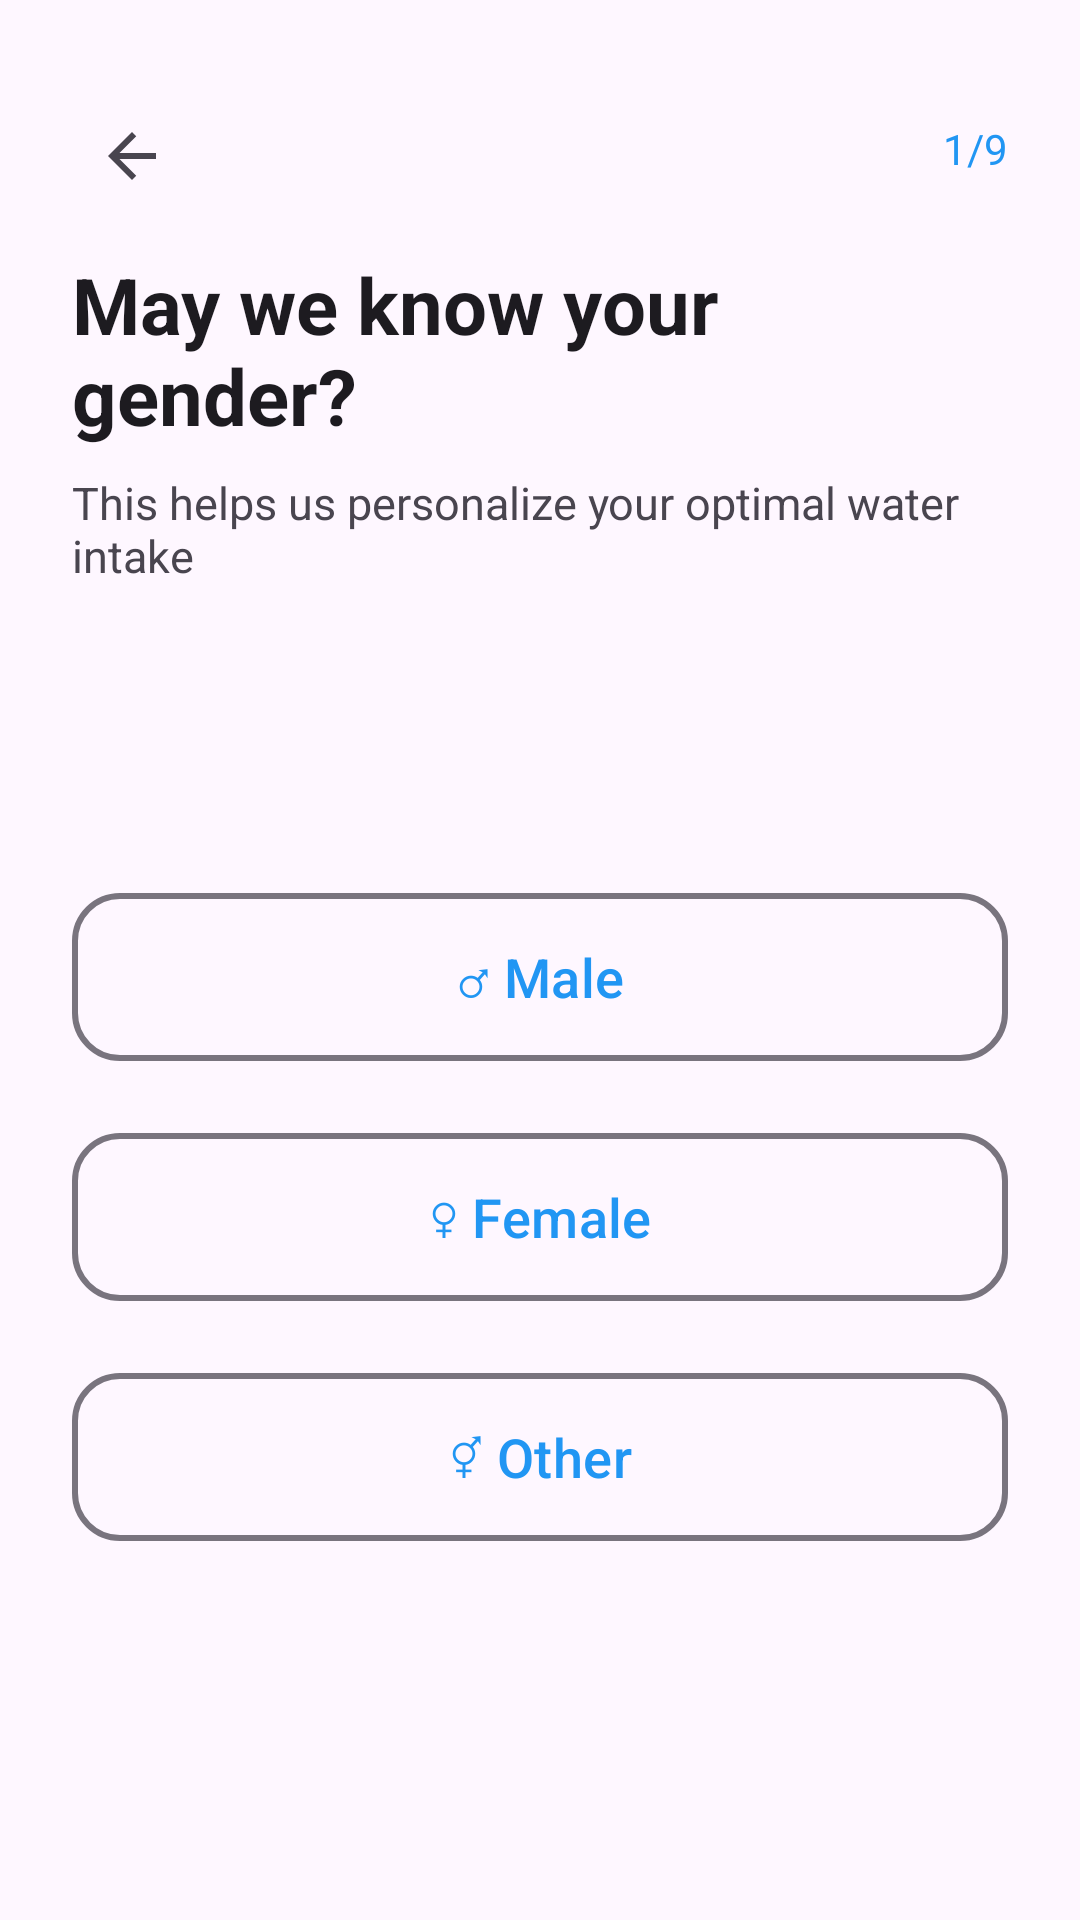

Icons on this 1080*1920 Android screen, each with its box as rect(x1, y1, x2, y2):
Go back: rect(108, 132, 156, 180)
